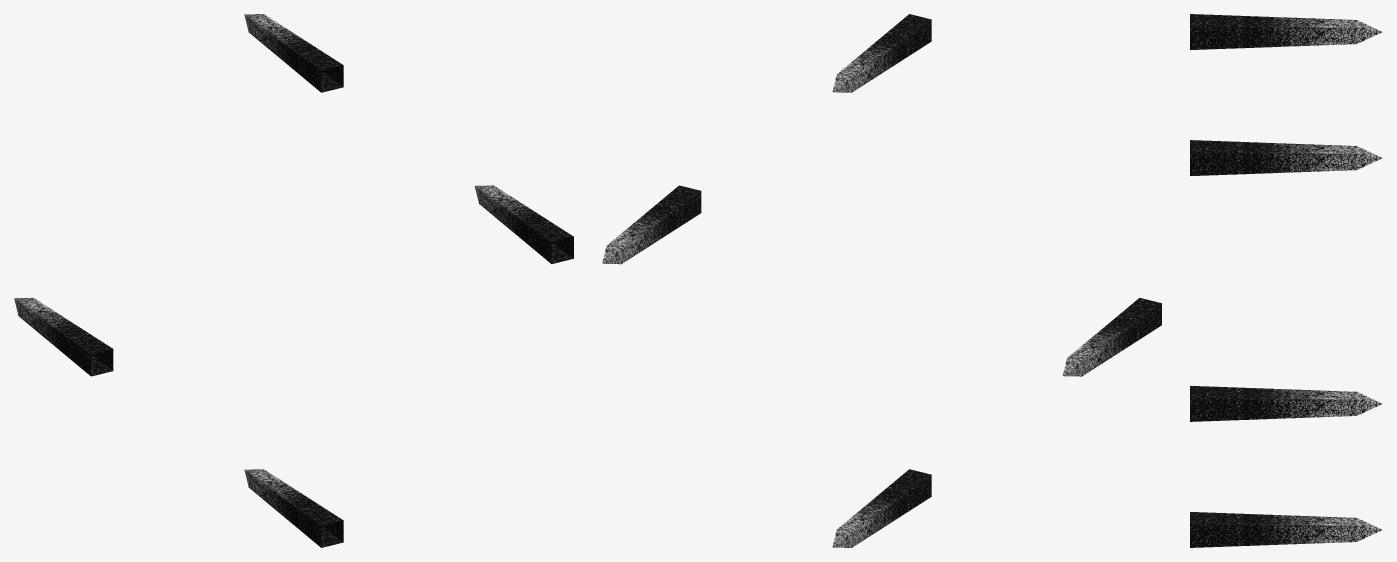
Rendered from Obelisks.fbx.
3 renders of one model, left to right at view 1: azimuth 30°, elevation 25°; view 2: azimuth 150°, elevation 25°; view 3: azimuth 270°, elevation 25°, orthographic. The views are drawn at different scales.
Parts seen in each view (by area): view 1: Obelisk2; view 2: Obelisk2; view 3: Obelisk2.
Boxes of the visible parts, bbox=[...] form: Obelisk2: bbox=[14, 14, 573, 547]; Obelisk2: bbox=[602, 14, 1161, 547]; Obelisk2: bbox=[1190, 14, 1382, 547].
Bounding box in the file's own units: 136 × 128 × 43.03.
